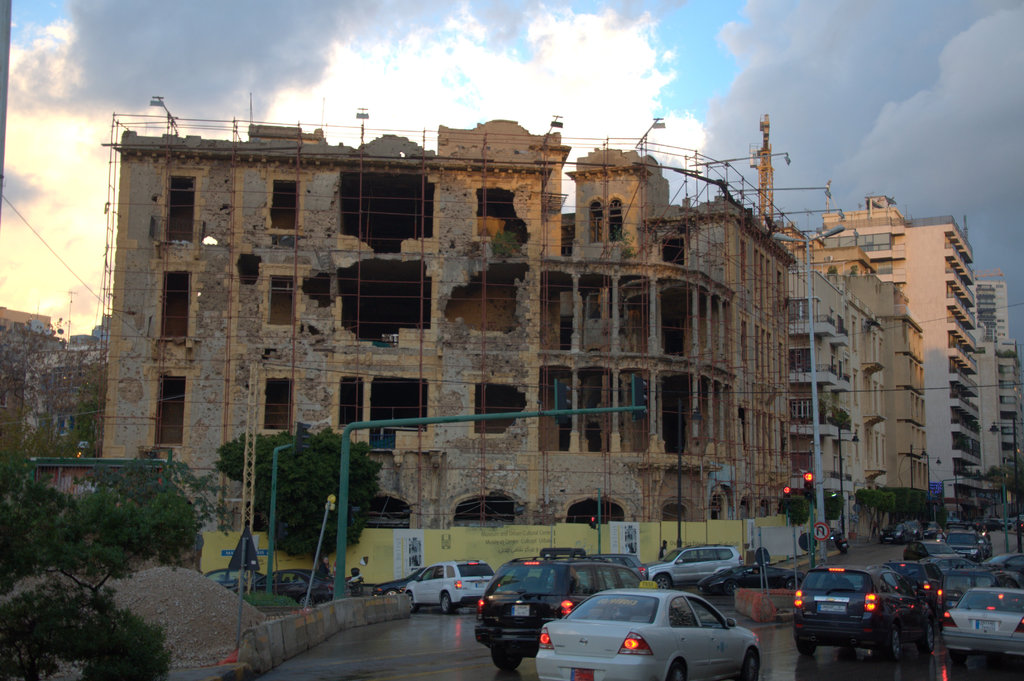Car: (786, 517, 1023, 680), (528, 580, 765, 680), (471, 555, 634, 660), (640, 544, 739, 588), (396, 558, 495, 601), (270, 565, 349, 600), (206, 570, 270, 586)
